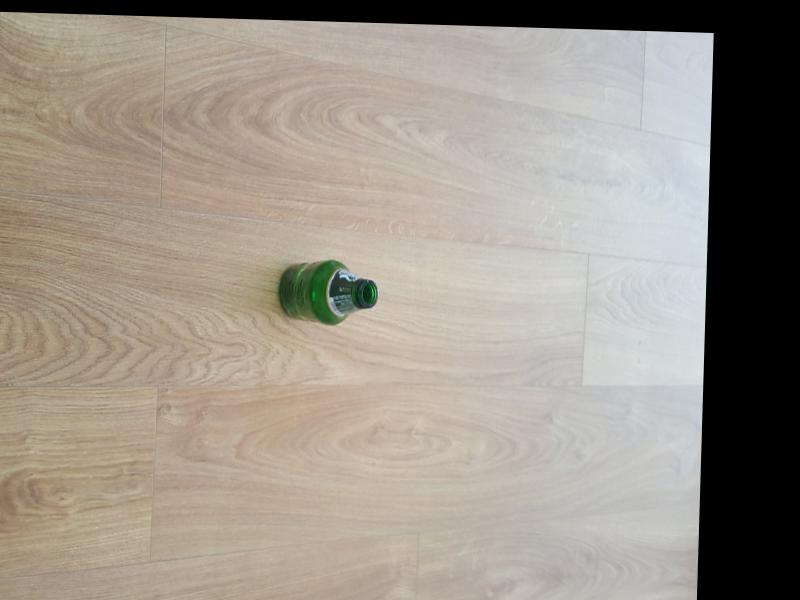Beer: (275, 260, 378, 331)
